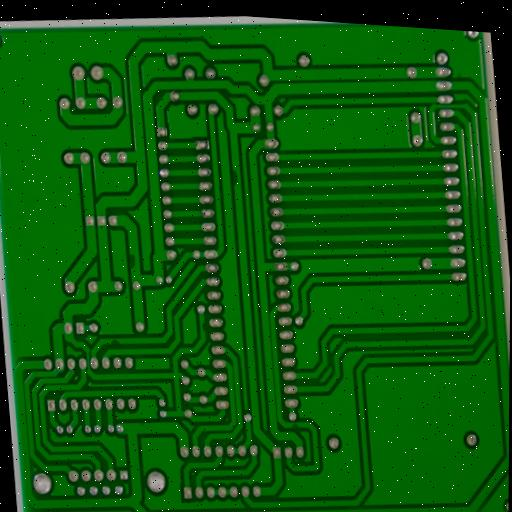mouse_bite: (230, 166, 244, 191), (127, 249, 140, 272), (107, 335, 125, 348), (288, 418, 303, 432), (200, 318, 209, 336)
